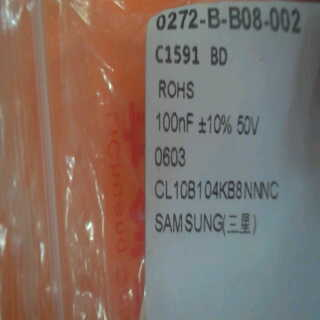100nF: (151, 110, 195, 138)
